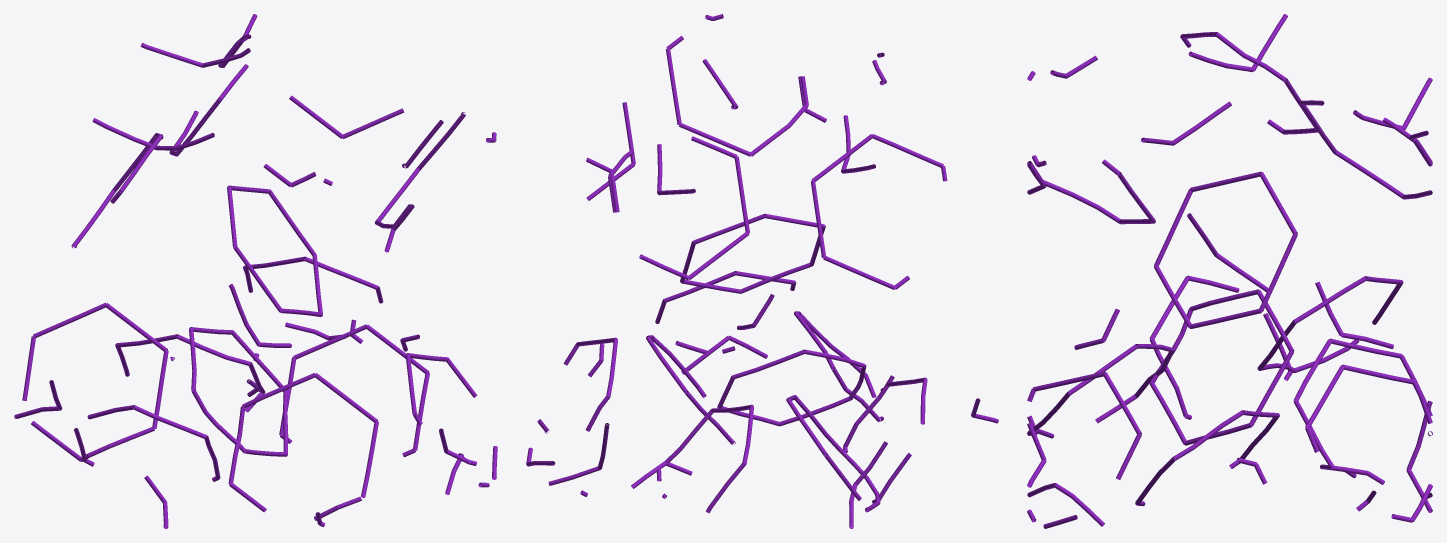
The model's file is dislocation.glb.
The picture shows the model from 3 angles, left to right: view 1: azimuth 30°, elevation 25°; view 2: azimuth 150°, elevation 25°; view 3: azimuth 270°, elevation 25°; orthographic projection. The views are drawn at different scales.
Visible parts, largest first — view 1: Shape_IndexedLineSet.001; view 2: Shape_IndexedLineSet.001; view 3: Shape_IndexedLineSet.001.
Part boxes in pixels (<box>): Shape_IndexedLineSet.001: <box>14,14,497,528</box>; Shape_IndexedLineSet.001: <box>526,14,998,528</box>; Shape_IndexedLineSet.001: <box>1027,14,1432,528</box>.
Bounding box in the file's own units: 1.01 × 1.01 × 1.01.
